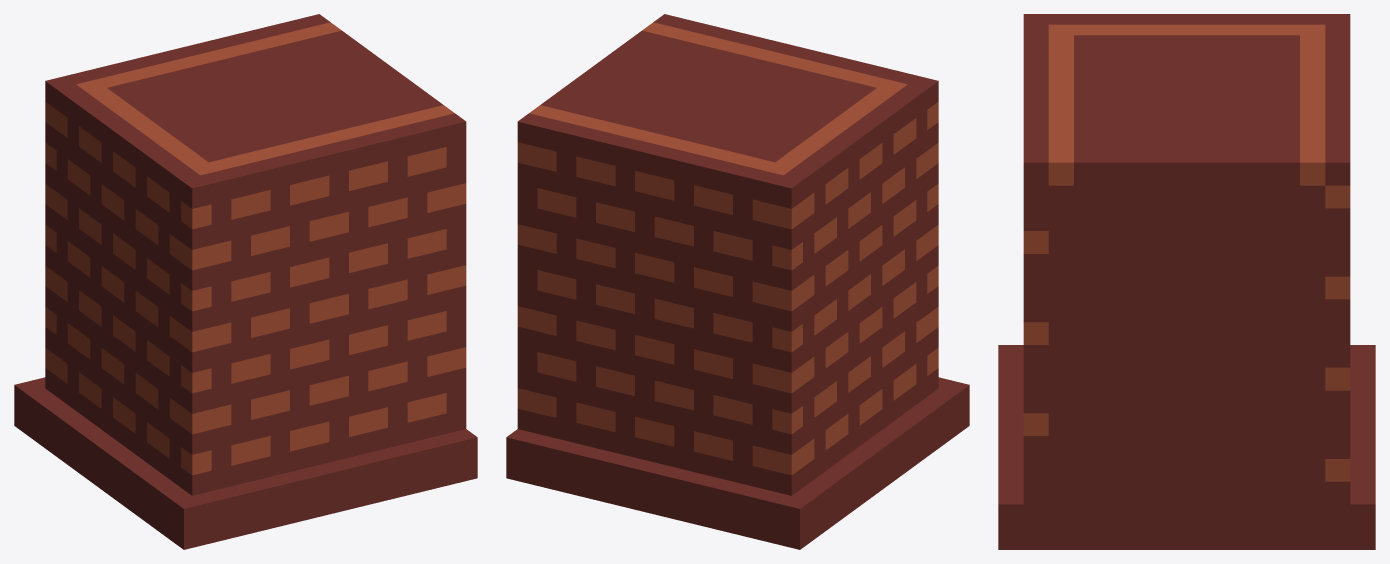
The model's file is dungeon_b_a_inner_wall_ending_flipped.obj.
3 views of the same model, side by side, from view 1: azimuth 30°, elevation 25°; view 2: azimuth 150°, elevation 25°; view 3: azimuth 270°, elevation 25° (orthographic). The views are drawn at different scales.
Size of the model in its own units: 1.5 by 1.7 by 1.5.
1 material, 1 textured.
